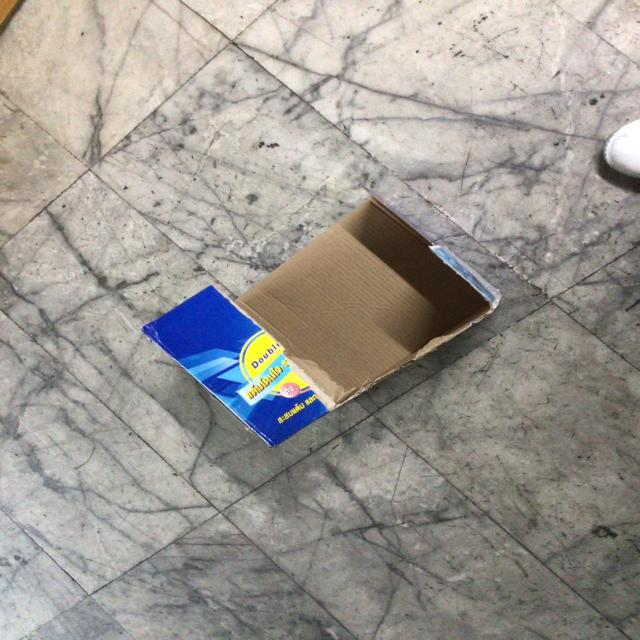cardboard: (150, 192, 490, 446)
